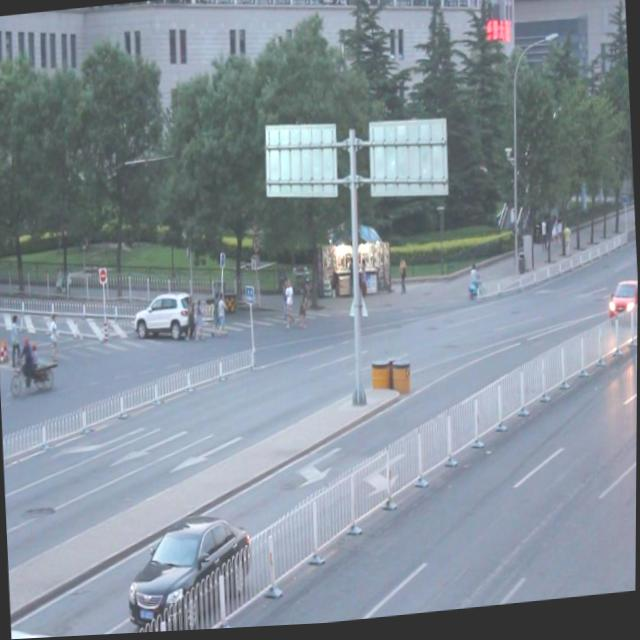car: (127, 509, 254, 625), (135, 292, 198, 344), (606, 283, 638, 326), (11, 616, 70, 639)
